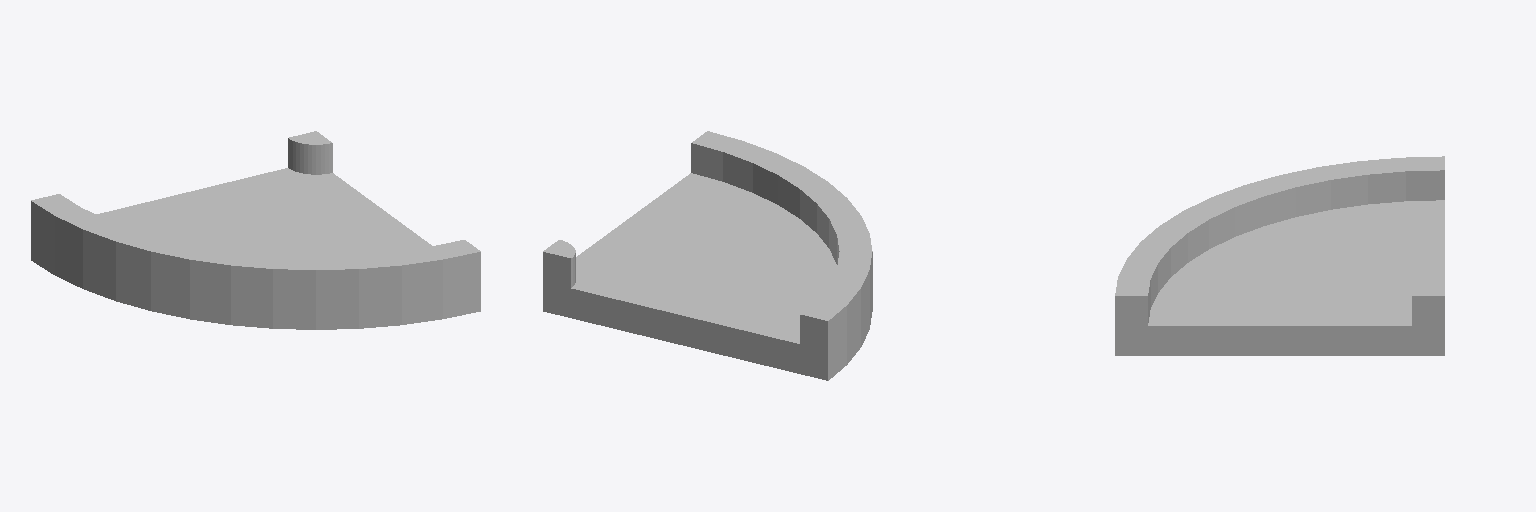
File: TrackCornerSharp.obj
3 renders of one model, left to right at view 1: azimuth 30°, elevation 25°; view 2: azimuth 150°, elevation 25°; view 3: azimuth 270°, elevation 25°, orthographic.
Parts seen in each view (by area): view 1: Cube_-_col; view 2: Cube_-_col; view 3: Cube_-_col.
Boxes of the visible parts, <box> form: Cube_-_col: <box>31,131,480,329</box>; Cube_-_col: <box>543,131,872,380</box>; Cube_-_col: <box>1115,156,1444,355</box>.
Bounding box in the file's own units: 2 × 0.4 × 2.